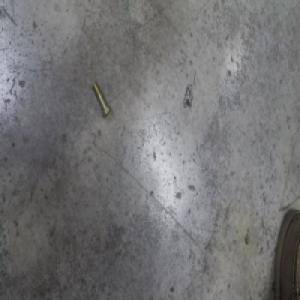Bolt: (91, 79, 110, 119)
